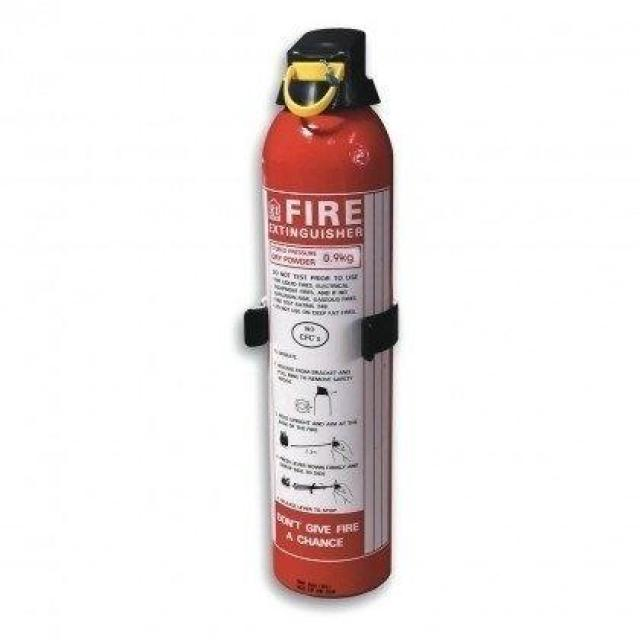fire_extinguisher: (252, 24, 397, 600)
